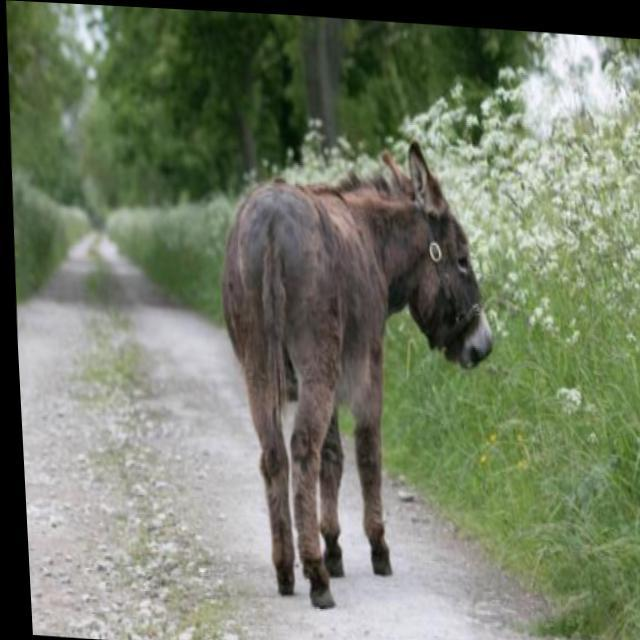Donkey: (205, 128, 506, 619)
